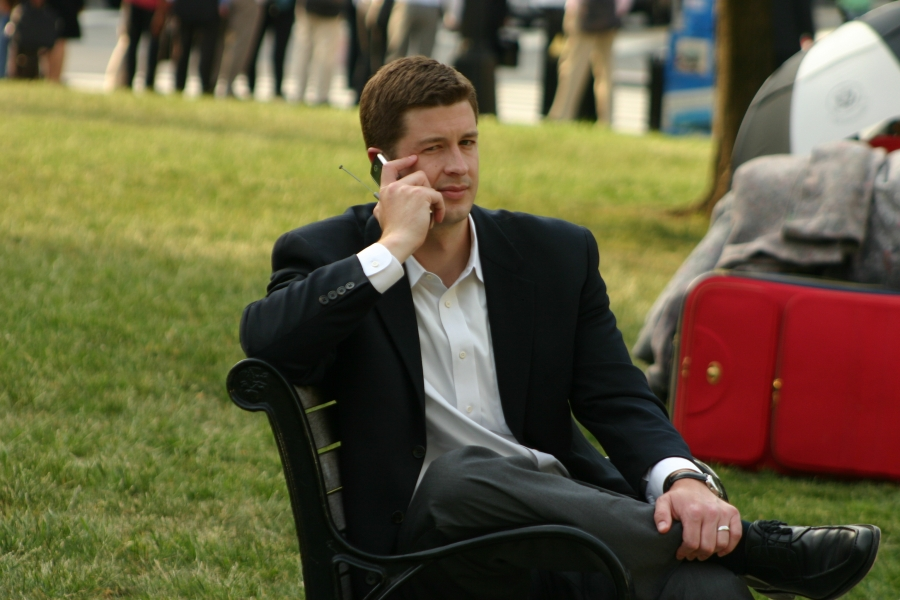phone: (366, 157, 431, 229)
talk: (362, 123, 483, 250)
